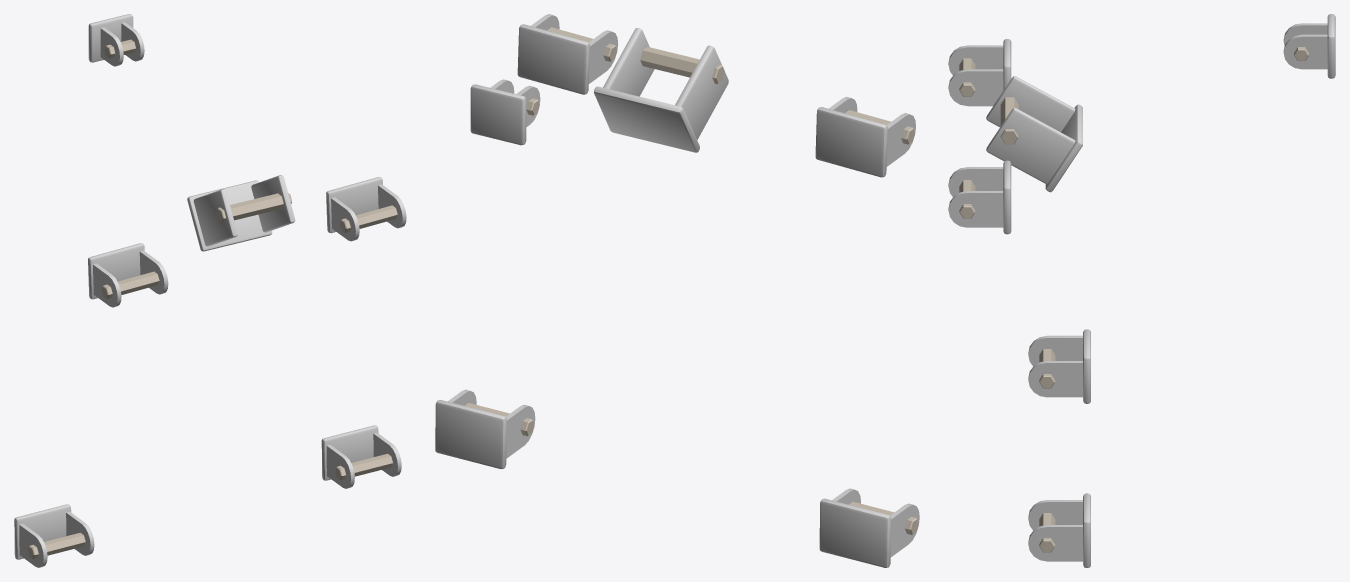
File: SM_Susp_FR_Mounts.fbx
The picture shows the model from 3 angles, left to right: view 1: azimuth 30°, elevation 25°; view 2: azimuth 150°, elevation 25°; view 3: azimuth 270°, elevation 25°; orthographic projection. The views are drawn at different scales.
Visible parts, largest first — view 1: Export_Susp_FR_Mounts; view 2: Export_Susp_FR_Mounts; view 3: Export_Susp_FR_Mounts.
Part boxes in pixels (x1,y1,x2,y2): Export_Susp_FR_Mounts: (14,14,406,567); Export_Susp_FR_Mounts: (435,14,919,567); Export_Susp_FR_Mounts: (948,14,1335,567).
Size of the model in its own units: 0.388 by 0.4781 by 0.5119.
